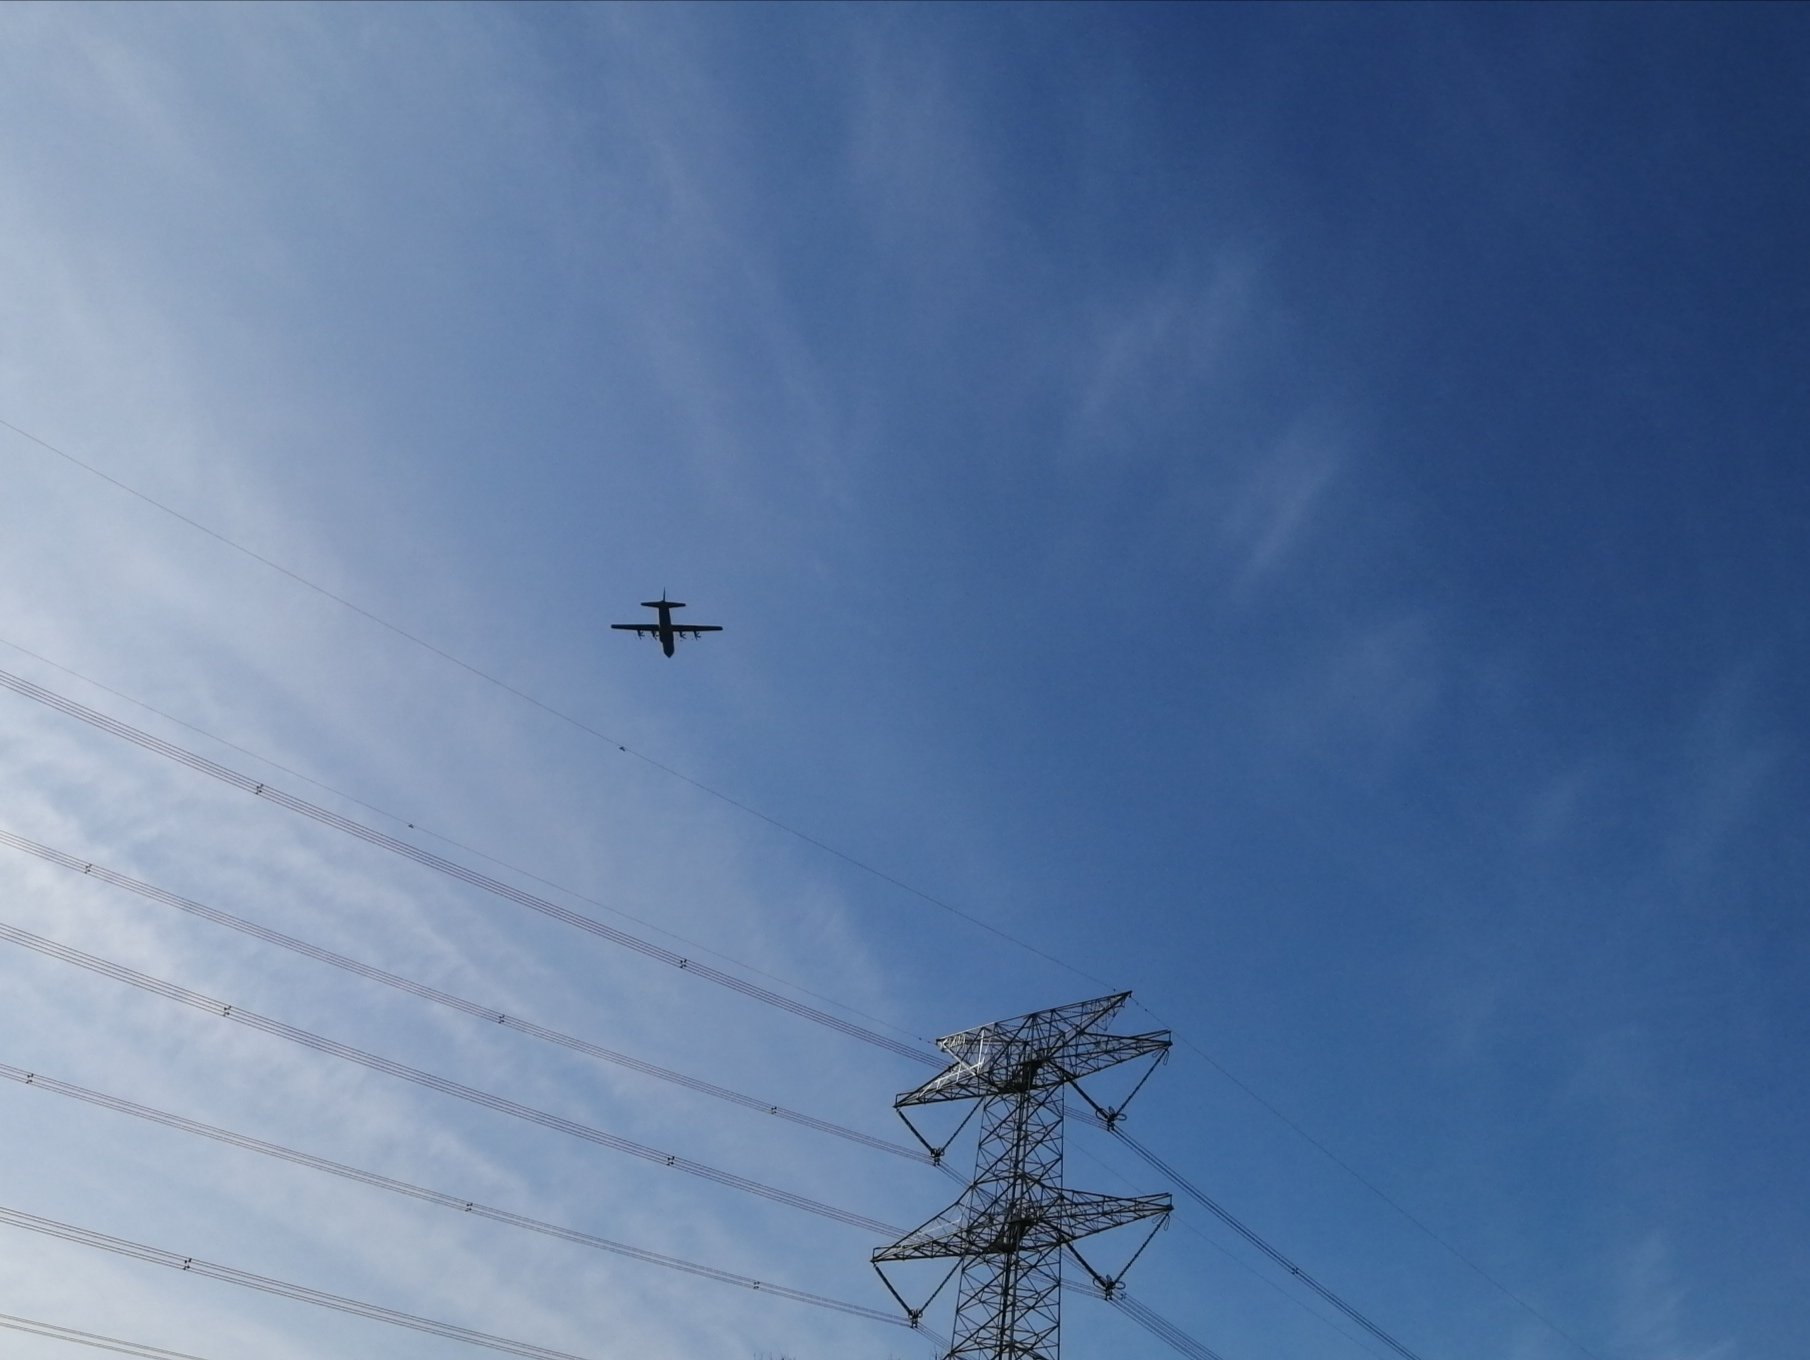airplane: (610, 586, 724, 659)
